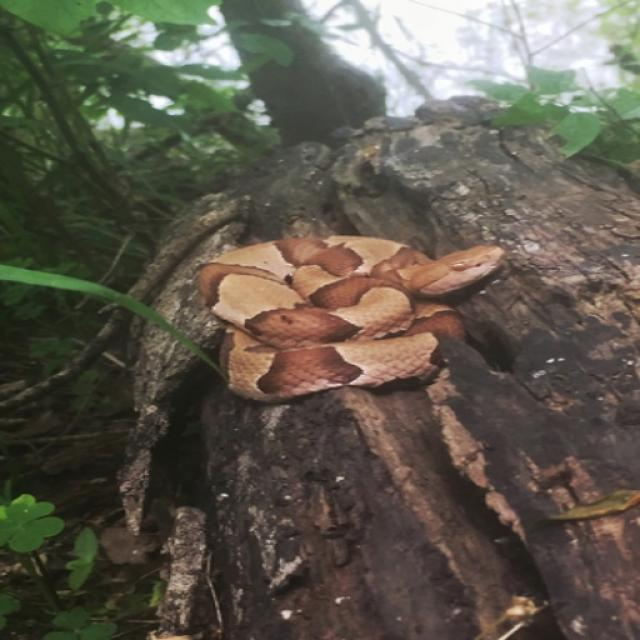snake: (184, 218, 509, 425)
